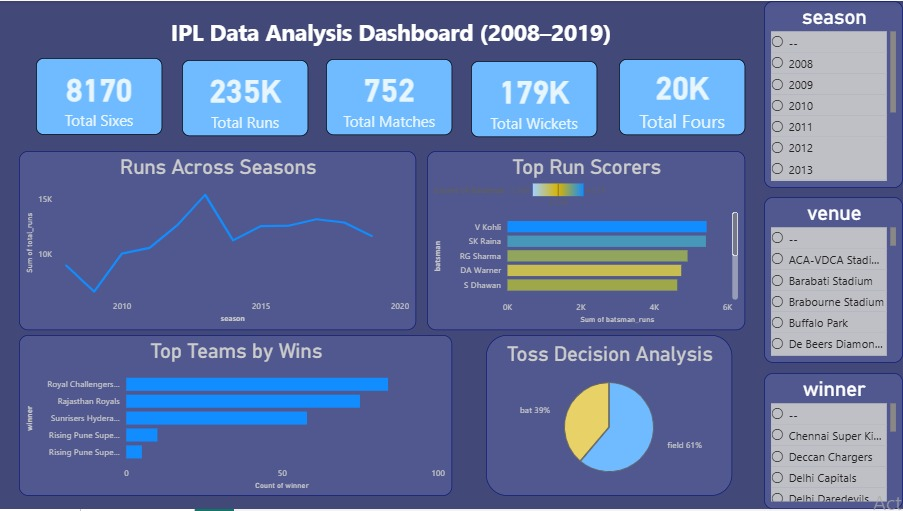

The page's visual inventory and layout, read from the dashboard file:
{"tool":"powerbi","page":{"name":"IPL Overview","canvas":[1280,720],"ordinal":0},"visuals":[{"type":"textbox","box":[191.3,17,725.7,85],"z":0},{"type":"card","fields":{"Values":["matches.Total Matches"]},"box":[462.6,82.3,179,107.7],"z":0,"group":"g1"},{"type":"clusteredBarChart","title":"Top Teams by Wins","fields":{"Category":["matches.winner"],"Y":["CountNonNull(matches.winner)"]},"box":[26.9,473.4,613.7,228.2],"z":1000},{"type":"card","fields":{"Values":["matches.Total Runs"]},"box":[258.4,84.2,179,107.7],"z":2000,"group":"g1"},{"type":"clusteredBarChart","title":"Top Run Scorers","fields":{"Category":["deliveries.batsman"],"Y":["Sum(deliveries.batsman_runs)"]},"box":[605.2,212.6,450.7,253.7],"z":2000},{"type":"lineChart","title":"Runs Across Seasons","fields":{"Category":["matches.season"],"Y":["Sum(deliveries.total_runs)"]},"box":[26.9,212.6,562.7,253.7],"z":3000},{"type":"card","fields":{"Values":["matches.Total Wickets"]},"box":[668.2,85,179,107.7],"z":4000,"group":"g1"},{"type":"pieChart","title":"Toss Decision Analysis","fields":{"Category":["matches.toss_decision"],"Y":["CountNonNull(matches.toss_decision)"]},"box":[688.8,473.4,348.7,228.2],"z":4000},{"type":"listSlicer","fields":{"Values":["matches.season"]},"box":[1082.8,0,197,265],"z":5000},{"type":"card","fields":{"Values":["matches.Total Fours"]},"box":[876.9,81.6,179,107.7],"z":6000,"group":"g1"},{"type":"listSlicer","fields":{"Values":["matches.venue"]},"box":[1082.8,277.8,197,235.3],"z":6000},{"type":"listSlicer","fields":{"Values":["matches.winner"]},"box":[1082.8,527.2,197,192.8],"z":7000},{"type":"group","id":"g1","title":"Group 1","box":[51,80.8,1004.9,112],"z":8000},{"type":"card","fields":{"Values":["matches.Total Sixes"]},"box":[51,80.8,179,109.1],"z":8000,"group":"g1"}]}

Visuals, with their boxes in screenshot pixels (x1, y1, x2, y2), scaled from the page's 1280x720 canvas onto the 903x511 screenshot:
textbox: 135/12/647/72
card - matches.Total Matches: 326/58/453/135
"Top Teams by Wins" clusteredBarChart: 19/336/452/498
card - matches.Total Runs: 182/60/309/136
"Top Run Scorers" clusteredBarChart: 427/151/745/331
"Runs Across Seasons" lineChart: 19/151/416/331
card - matches.Total Wickets: 471/60/598/137
"Toss Decision Analysis" pieChart: 486/336/732/498
listSlicer - matches.season: 764/0/902/188
card - matches.Total Fours: 619/58/745/134
listSlicer - matches.venue: 764/197/902/364
listSlicer - matches.winner: 764/374/902/510
"Group 1" group: 36/57/745/137
card - matches.Total Sixes: 36/57/162/135
